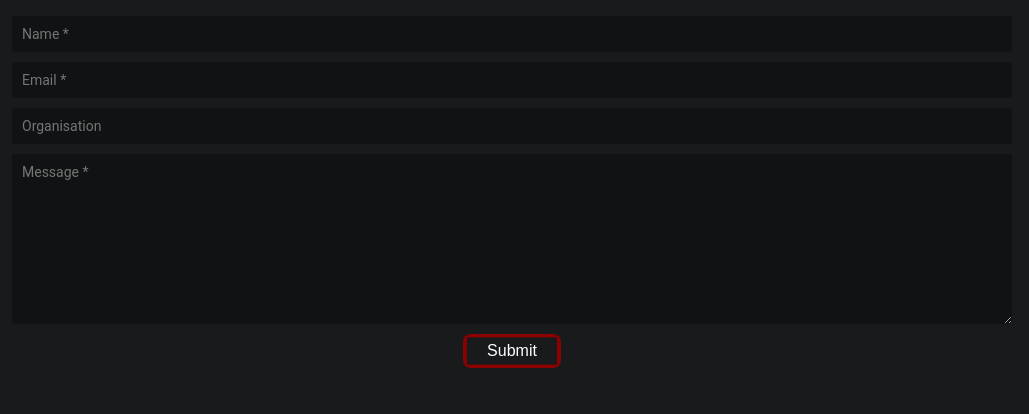
Test: ContactForm › shows error message when email sending fails
In the field with placeholder "Name *": (512, 34) x1=12 y1=16 x2=1012 y2=52, type "John Doe"
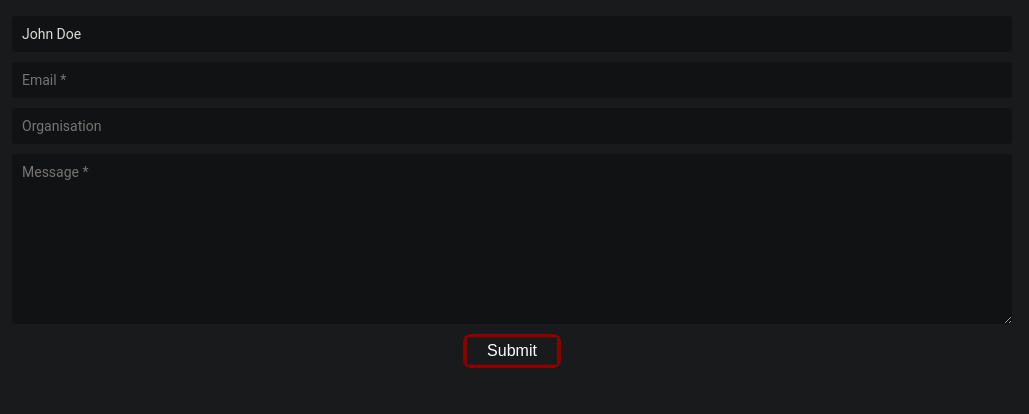
In the field with placeholder "Email *": (512, 80) x1=12 y1=62 x2=1012 y2=98, type "john@example.com"
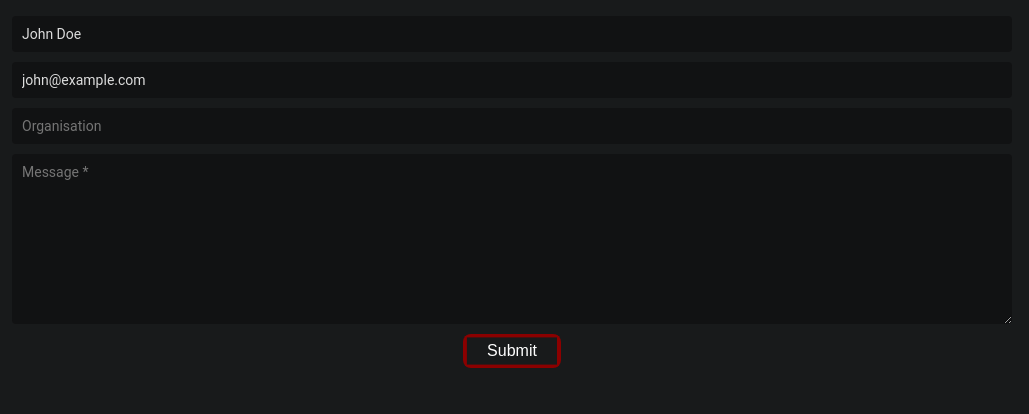
In the text box with placeholder "Message *": (512, 239) x1=12 y1=154 x2=1012 y2=324, type "Hello!"
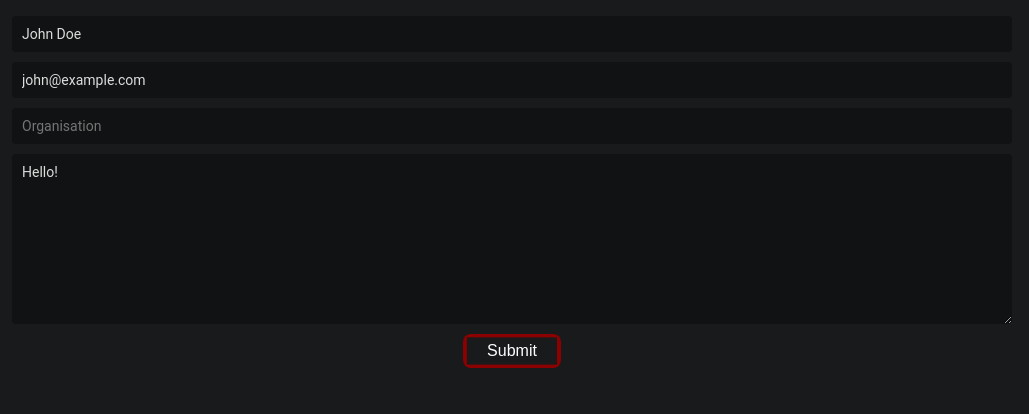
Submit the form
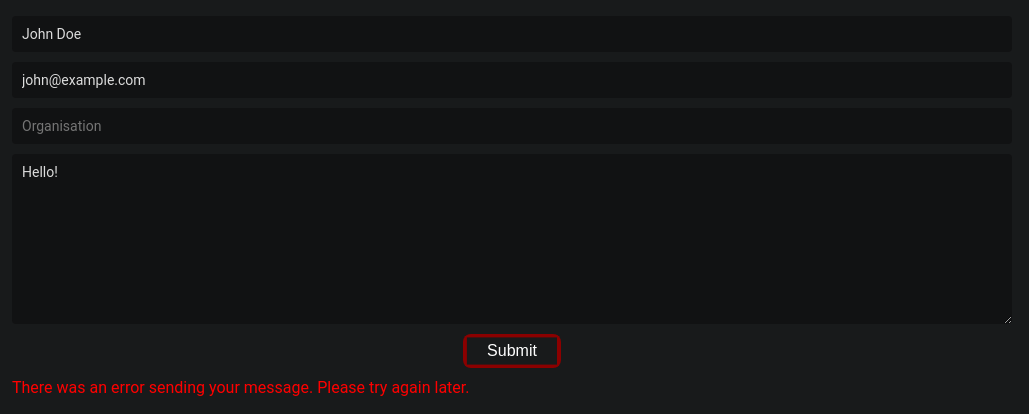
Check: the text with class "status-message" shows "There was an error sending your message", box x1=12 y1=378 x2=470 y2=397
